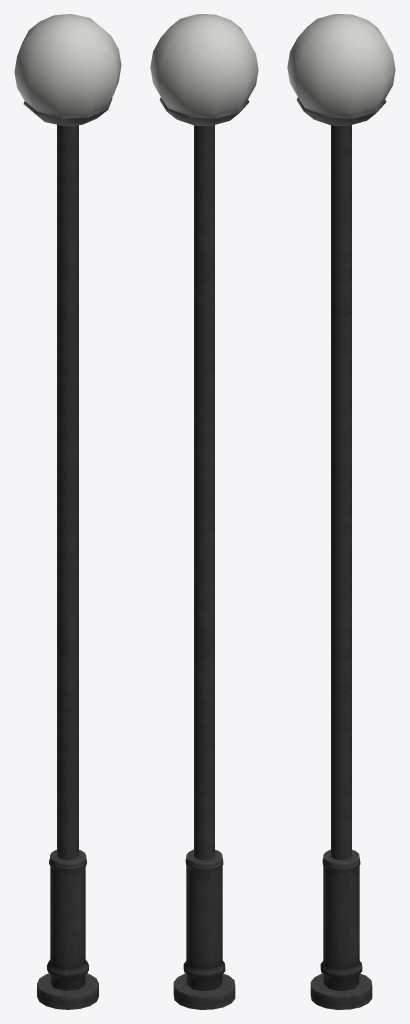
Rendered from Light_On_Post_-_Light_off.glb.
3 views of the same model, side by side, from view 1: azimuth 90°, elevation 25°; view 2: azimuth 150°, elevation 25°; view 3: azimuth 330°, elevation 25° (orthographic).
Parts seen in each view (by area): view 1: Street_Light_Off__LOD3; view 2: Street_Light_Off__LOD3; view 3: Street_Light_Off__LOD3.
Boxes of the visible parts, x1=… form: Street_Light_Off__LOD3: x1=14, y1=14, x2=121, y2=1009; Street_Light_Off__LOD3: x1=150, y1=14, x2=258, y2=1009; Street_Light_Off__LOD3: x1=287, y1=14, x2=395, y2=1009.
Bounding box in the file's own units: 0.391 × 3.94 × 0.391.
1 material, 1 textured.
